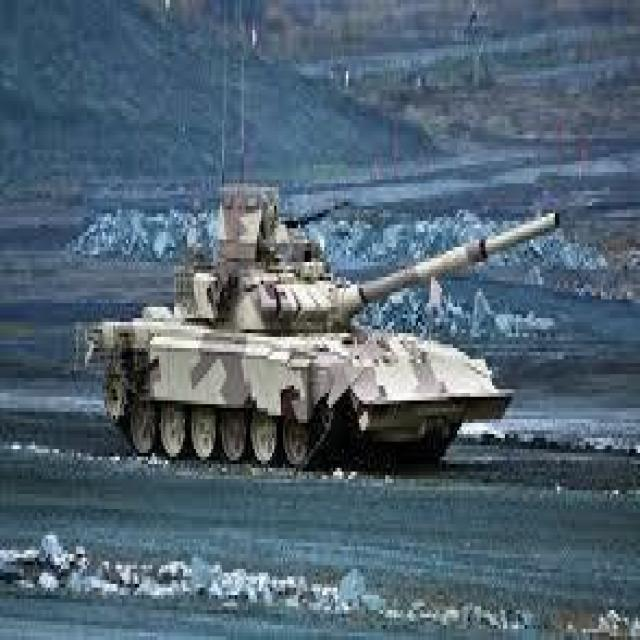Tanks: (85, 176, 562, 483)
